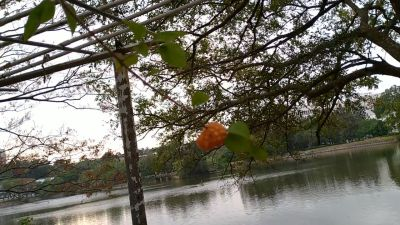eggs: (196, 121, 228, 153)
